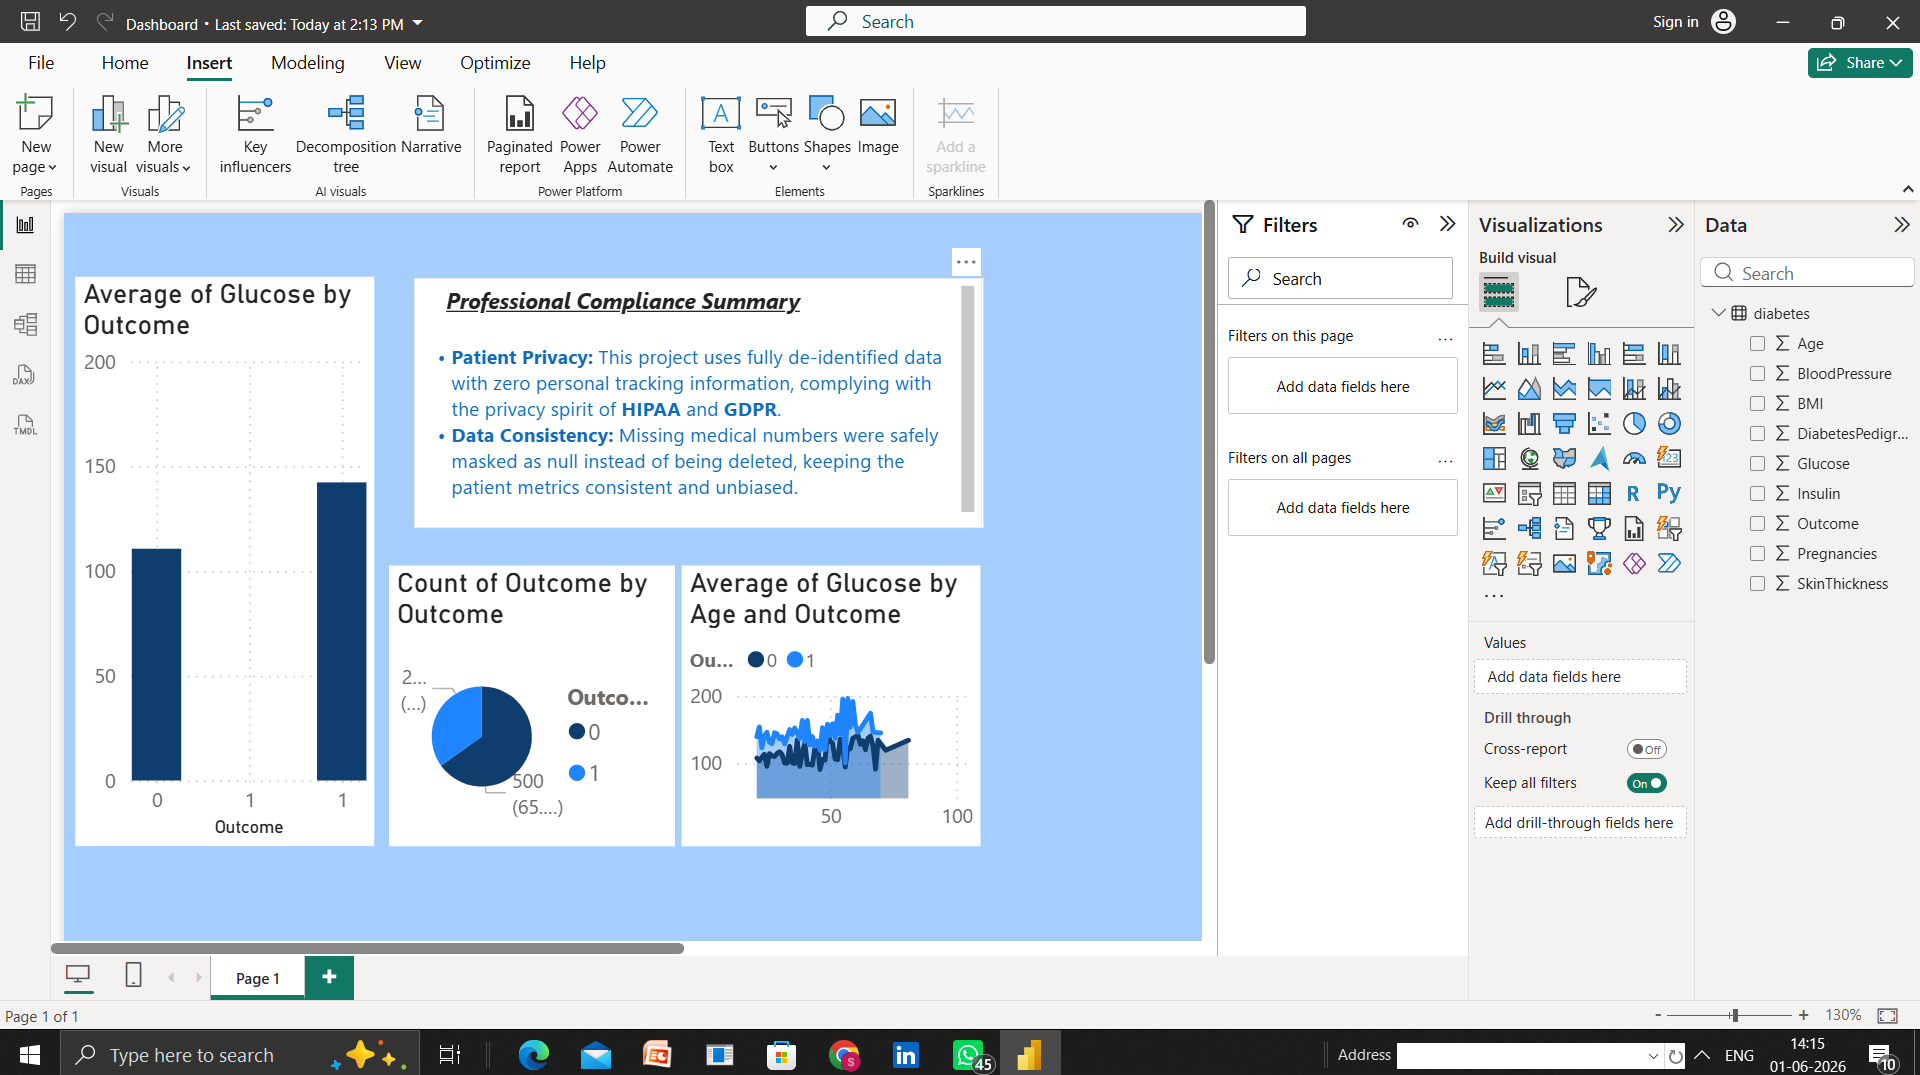

The page's visual inventory and layout, read from the dashboard file:
{"tool":"powerbi","page":{"name":"Page 1","canvas":[1280,720],"ordinal":0},"visuals":[{"type":"textbox","box":[215,40,350,153.8],"z":1000},{"type":"clusteredColumnChart","fields":{"Category":["diabetes.Outcome"],"Y":["Avg(diabetes.Glucose)"]},"box":[6.9,39.4,184.4,350],"z":1001},{"type":"pieChart","fields":{"Category":["diabetes.Outcome"],"Y":["CountNonNull(diabetes.Outcome)"]},"box":[200,216.9,175.6,172.5],"z":1002},{"type":"areaChart","fields":{"Category":["diabetes.Age"],"Y":["Avg(diabetes.Glucose)"],"Series":["diabetes.Outcome"]},"box":[380,216.9,184.4,172.5],"z":1003}]}

Visuals, with their boxes on the page's 1280x720 design canvas (x1, y1, x2, y2). These are canvas units, not pixel positions in the 1920x1075 screenshot, which may show the page scaled, cropped or inside an application window:
textbox: (215, 40, 565, 194)
clusteredColumnChart - diabetes.Outcome x Avg(diabetes.Glucose): (7, 39, 191, 389)
pieChart - diabetes.Outcome x CountNonNull(diabetes.Outcome): (200, 217, 376, 389)
areaChart - diabetes.Age x Avg(diabetes.Glucose): (380, 217, 564, 389)
